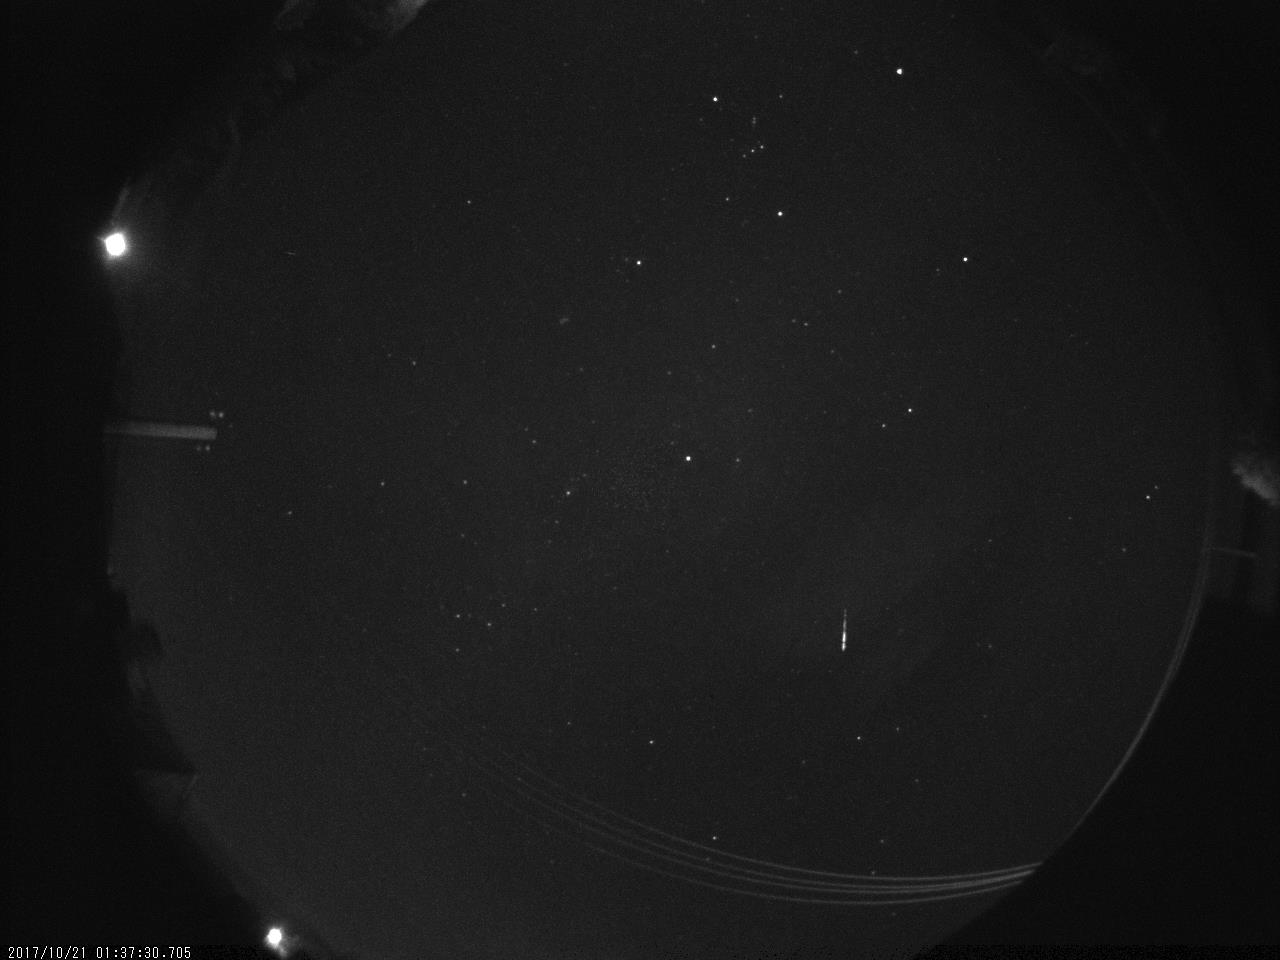meteor: (834, 603, 857, 657)
